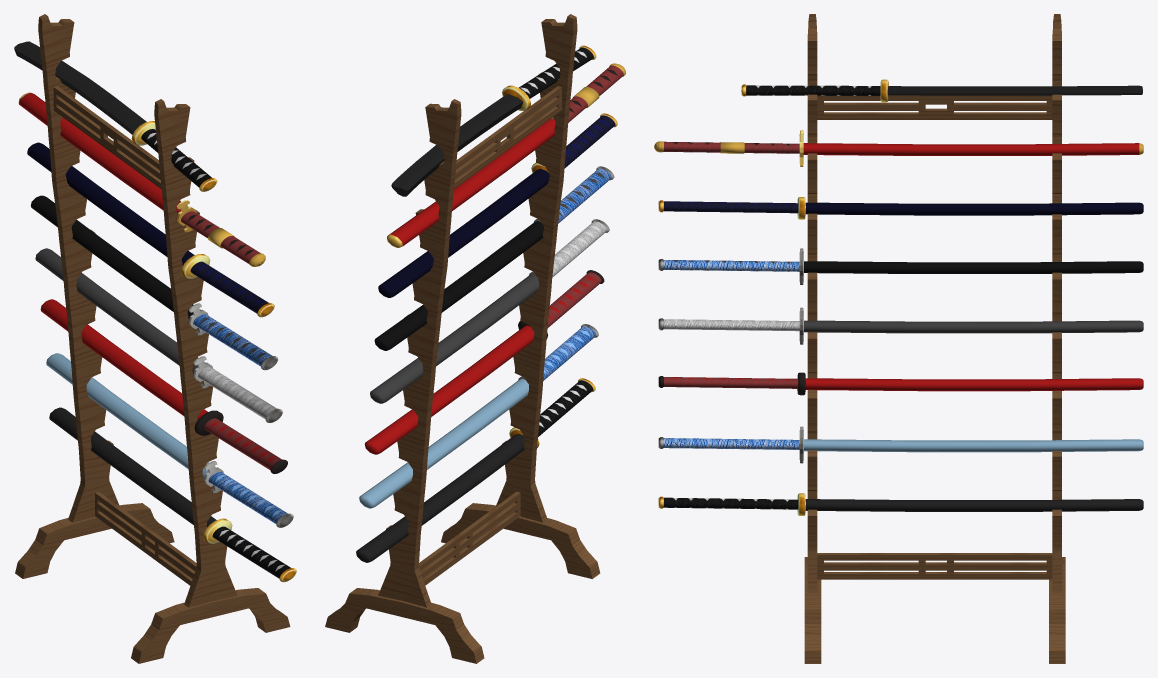
File: Soporte2.fbx
The picture shows the model from 3 angles, left to right: view 1: azimuth 30°, elevation 25°; view 2: azimuth 150°, elevation 25°; view 3: azimuth 270°, elevation 25°; orthographic projection. The views are drawn at different scales.
Parts seen in each view (by area): view 1: Cube.010, Cube.003, Katana.003, Katana.006, Katana.009, Katana.005, Katana.012, Cube.005, Katana.008, Cube.002, Katana.010, Cube.009 (+2 smaller); view 2: Cube.003, Cube.010, Katana.003, Katana.006, Katana.009, Katana.005, Katana.012, Cube.005, Katana.008, Katana.010, Cube.009, Cube.002 (+2 smaller); view 3: Katana.009, Katana.012, Katana.006, Katana.005, Cube.016, Katana.008, Cube.005, Katana.003, Cube.010, Cube.018, Cube.003, Katana.010 (+2 smaller).
Part boxes in pixels (<box>): Cube.010: <box>154,99,237,607</box>; Cube.003: <box>38,14,119,522</box>; Katana.003: <box>49,407,296,582</box>; Katana.006: <box>40,299,287,473</box>; Katana.009: <box>35,248,282,422</box>; Katana.005: <box>27,142,274,317</box>; Katana.012: <box>46,353,293,527</box>; Cube.005: <box>30,195,278,370</box>; Katana.008: <box>18,92,265,266</box>; Cube.002: <box>131,588,290,663</box>; Katana.010: <box>14,41,217,191</box>; Cube.009: <box>15,503,174,578</box>; Cube.003: <box>378,99,461,607</box>; Cube.010: <box>496,14,577,522</box>; Katana.003: <box>356,378,595,562</box>; Katana.006: <box>364,270,604,454</box>; Katana.009: <box>370,219,609,403</box>; Katana.005: <box>378,113,617,297</box>; Katana.012: <box>359,324,598,508</box>; Cube.005: <box>374,166,614,350</box>; Katana.008: <box>387,63,625,247</box>; Katana.010: <box>391,45,596,196</box>; Cube.009: <box>325,588,484,663</box>; Cube.002: <box>441,503,600,578</box>; Katana.009: <box>658,307,1143,344</box>; Katana.012: <box>658,426,1143,463</box>; Katana.006: <box>658,372,1143,395</box>; Katana.005: <box>658,197,1143,219</box>; Cube.016: <box>817,553,1052,579</box>; Katana.008: <box>654,130,1143,166</box>; Cube.005: <box>658,248,1143,284</box>; Katana.003: <box>658,493,1143,515</box>; Cube.010: <box>807,14,817,592</box>; Cube.018: <box>817,95,1052,119</box>; Cube.003: <box>1052,14,1061,592</box>; Katana.010: <box>741,79,1142,102</box>.
Bounding box in the file's own units: 86.01 × 300 × 228.
